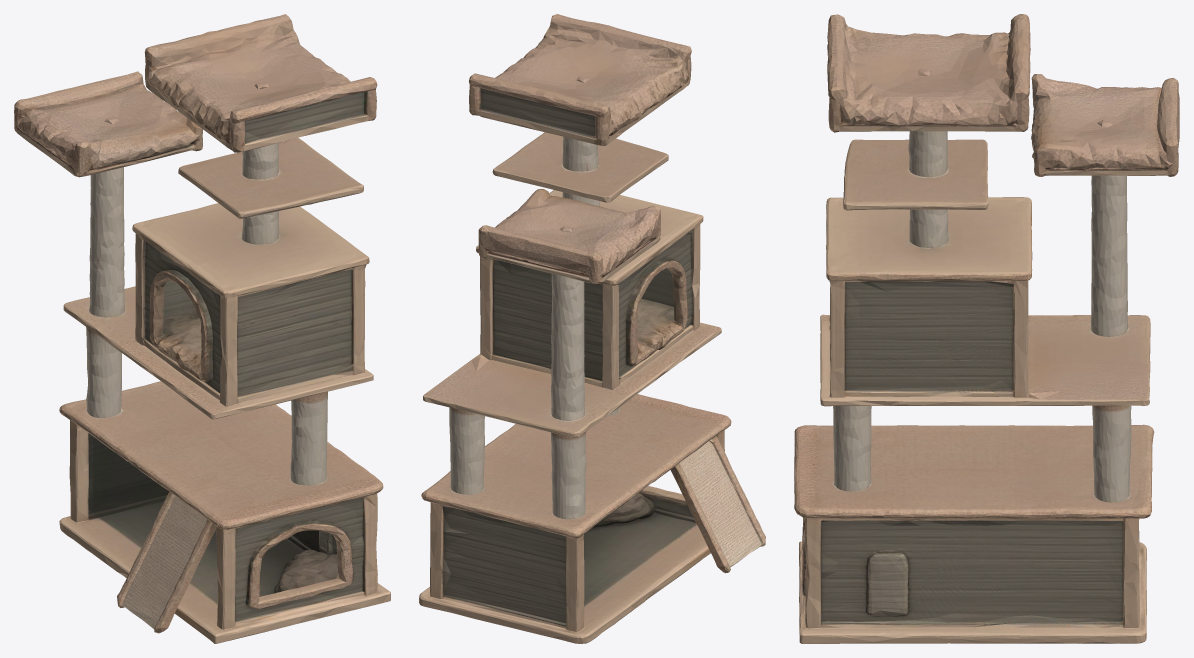
File: DOM_kotik_5__second.glb
3 views of the same model, side by side, from view 1: azimuth 30°, elevation 25°; view 2: azimuth 150°, elevation 25°; view 3: azimuth 270°, elevation 25° (orthographic). The views are drawn at different scales.
Visible parts, largest first — view 1: tripo_node_822ff040-e9a7-4f03-96e6-1901b7e26191; view 2: tripo_node_822ff040-e9a7-4f03-96e6-1901b7e26191; view 3: tripo_node_822ff040-e9a7-4f03-96e6-1901b7e26191.
Part boxes in pixels (x1,y1,x2,y2): tripo_node_822ff040-e9a7-4f03-96e6-1901b7e26191: (14, 14, 390, 643); tripo_node_822ff040-e9a7-4f03-96e6-1901b7e26191: (419, 14, 765, 643); tripo_node_822ff040-e9a7-4f03-96e6-1901b7e26191: (794, 14, 1179, 643).
Size of the model in its own units: 0.4594 by 1 by 0.6271.
1 material, 1 textured.
